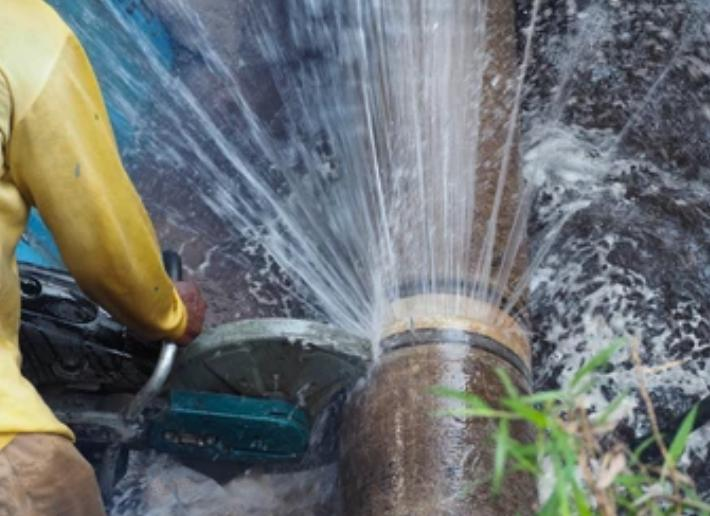pipe burst: (78, 0, 668, 352)
